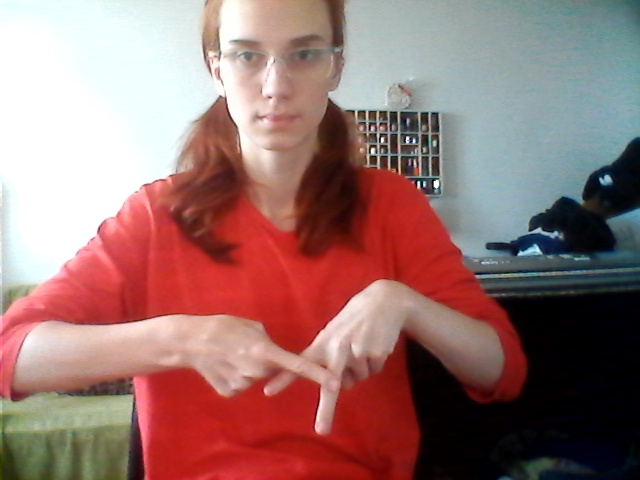a: (195, 311, 382, 444)
